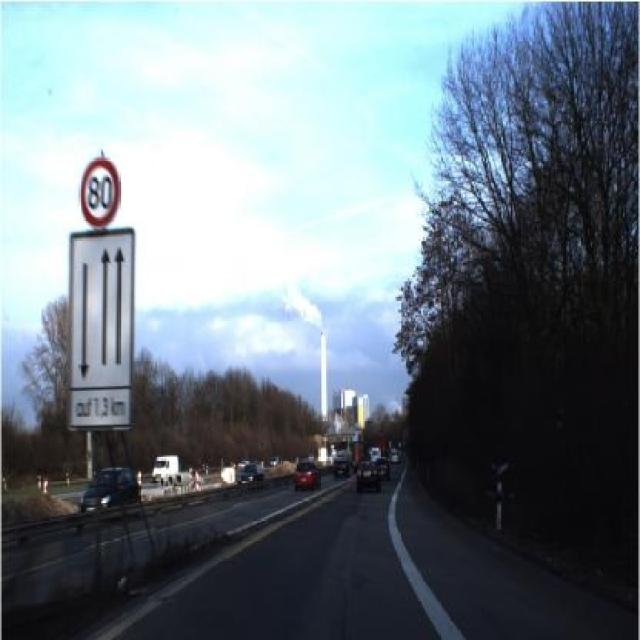forb_speed_over_80: (76, 154, 122, 229)
